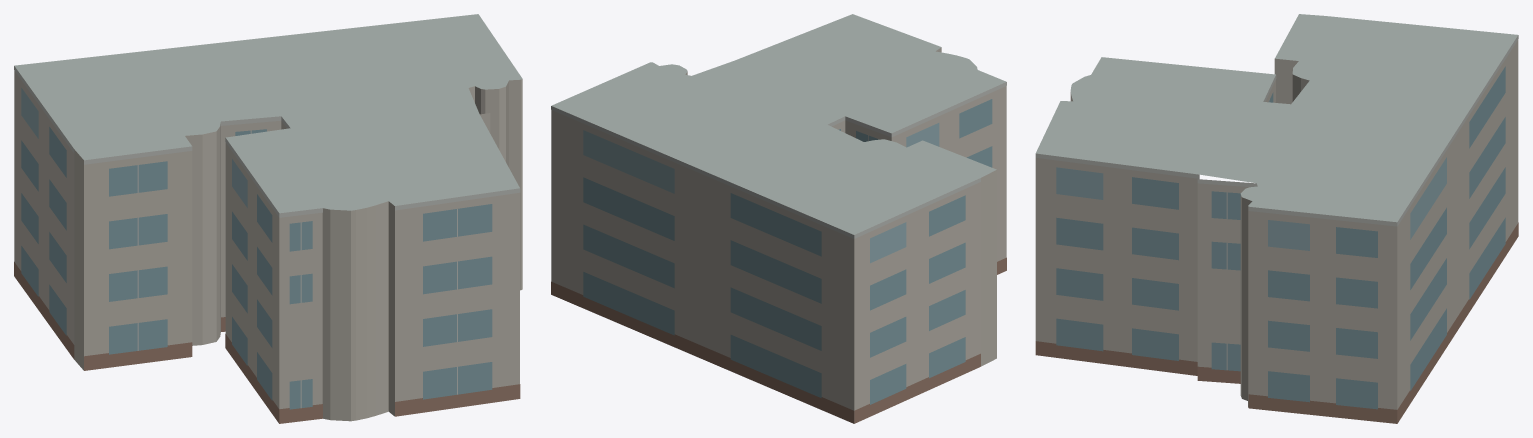
File: survey-upis-32751862.glb
The picture shows the model from 3 angles, left to right: view 1: azimuth 30°, elevation 25°; view 2: azimuth 150°, elevation 25°; view 3: azimuth 270°, elevation 25°; orthographic projection. The views are drawn at different scales.
Parts seen in each view (by area): view 1: survey-upis-32751862.tmp; view 2: survey-upis-32751862.tmp; view 3: survey-upis-32751862.tmp.
Boxes of the visible parts, box(x1,y1,x2,y2) form: survey-upis-32751862.tmp: box(14, 14, 522, 423); survey-upis-32751862.tmp: box(551, 14, 1006, 423); survey-upis-32751862.tmp: box(1035, 14, 1518, 423).
Bounding box in the file's own units: 25.6 × 11.55 × 25.08.
